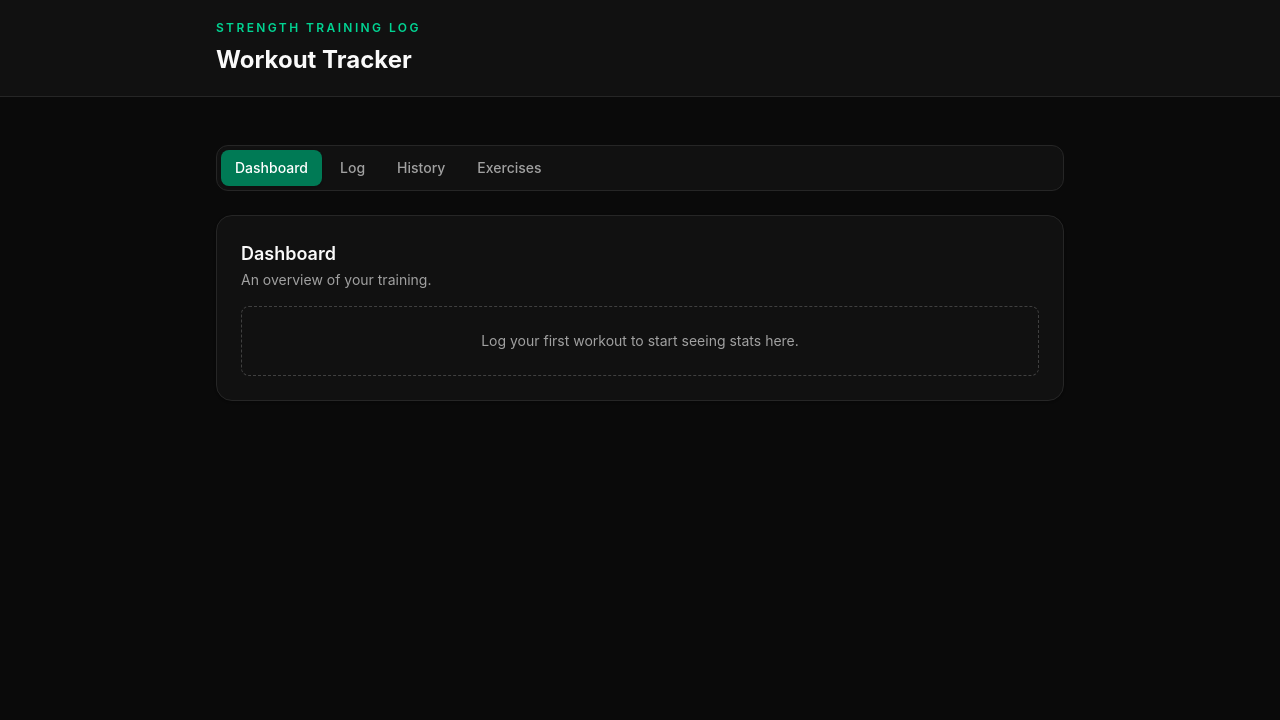
Scenario: protects exercises used by the unfinished workout
Click the tab "Exercises" at (509, 168), box left=463, top=150, right=556, bottom=186
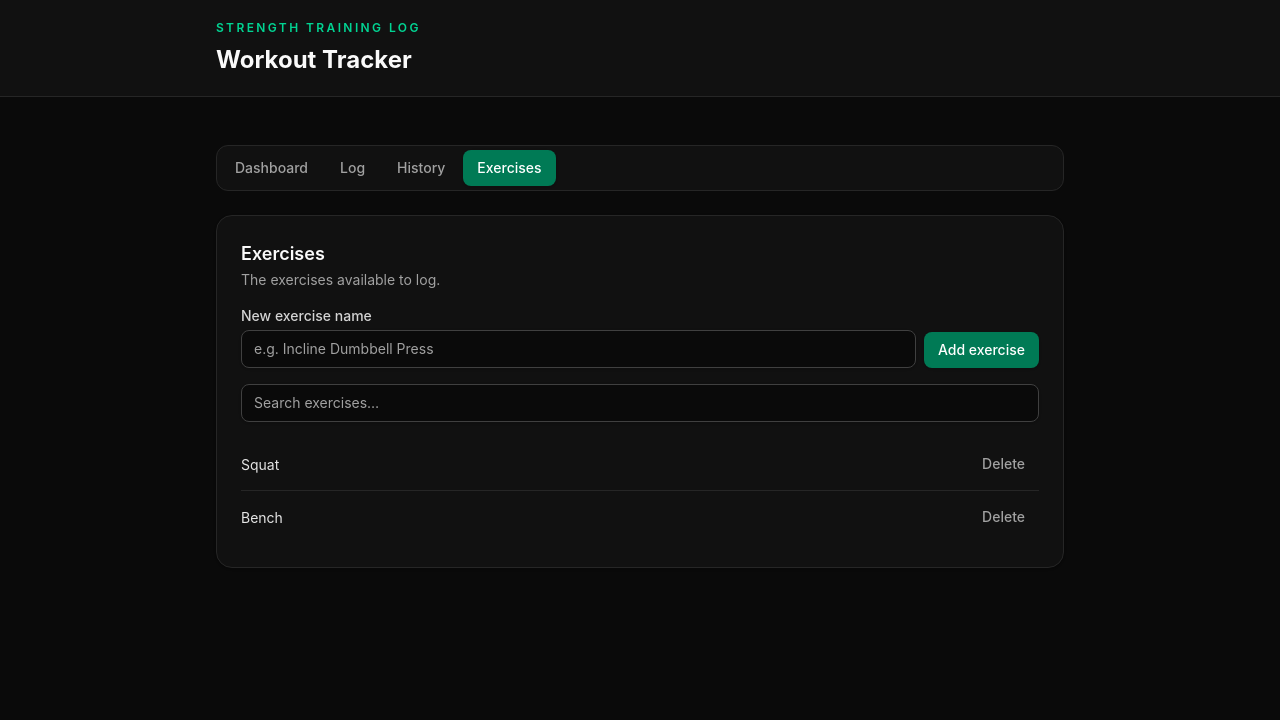
Click the button "Delete" in the row of "Bench" at (1004, 517), box left=968, top=499, right=1039, bottom=535
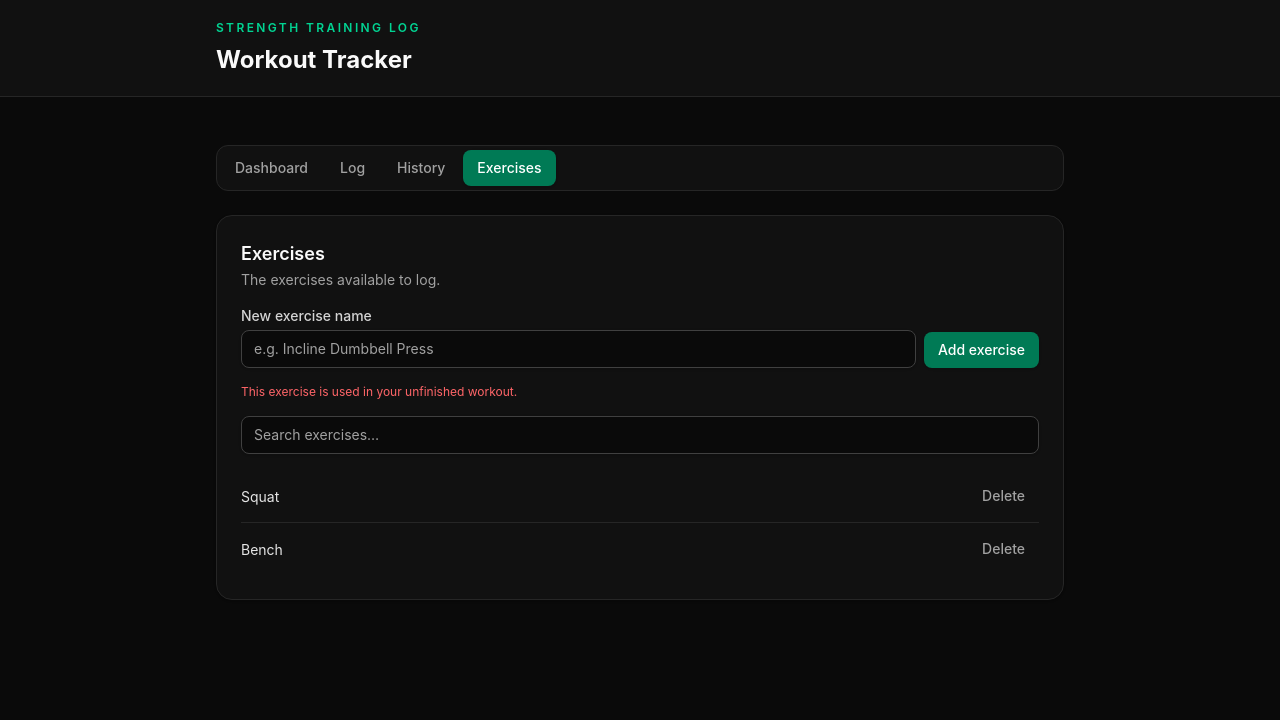
Expected: the text "used in your unfinished workout" is shown, left=241, top=384, right=517, bottom=399
